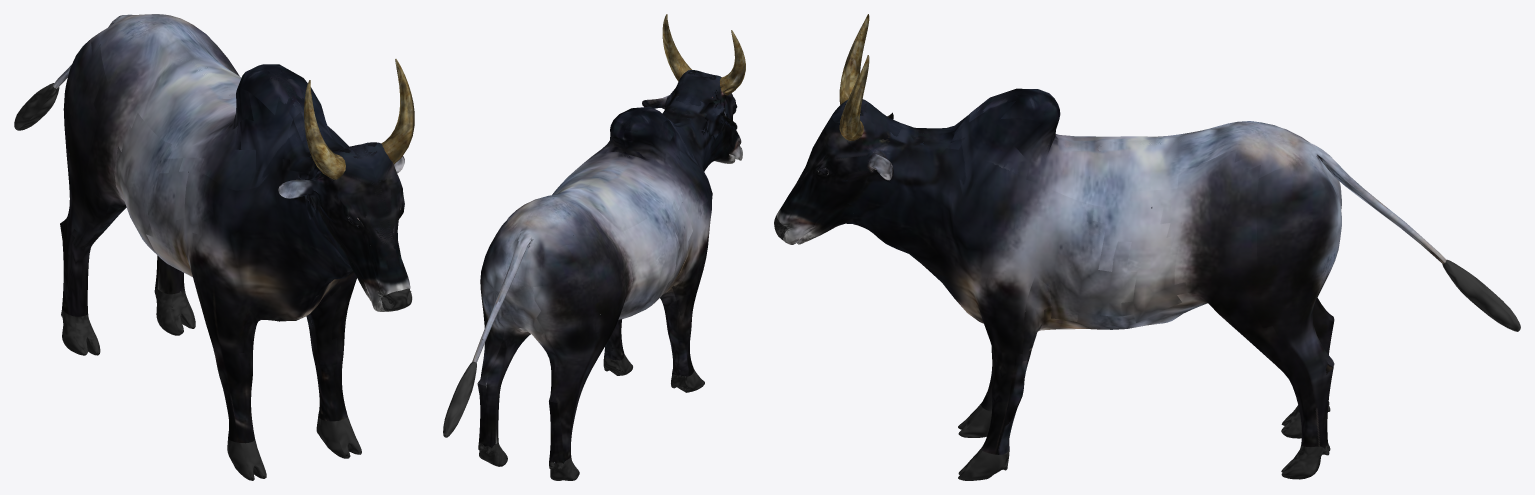
3 views of the same model, side by side, from view 1: azimuth 30°, elevation 25°; view 2: azimuth 150°, elevation 25°; view 3: azimuth 270°, elevation 25° (orthographic). The views are drawn at different scales.
Parts seen in each view (by area): view 1: Bull; view 2: Bull; view 3: Bull.
Boxes of the visible parts, x1,y1,x2,y2 form: Bull: (14,14,414,480); Bull: (443,14,745,480); Bull: (774,14,1520,480).
Bounding box in the file's own units: 1.3 × 3.08 × 4.94.
6 materials, 3 textured.
